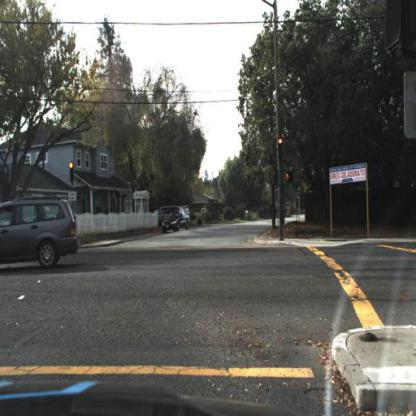car: (2, 191, 84, 273), (163, 208, 192, 233)
trafficLight: (69, 160, 75, 181)
trafficLight-Red: (278, 136, 285, 159)
